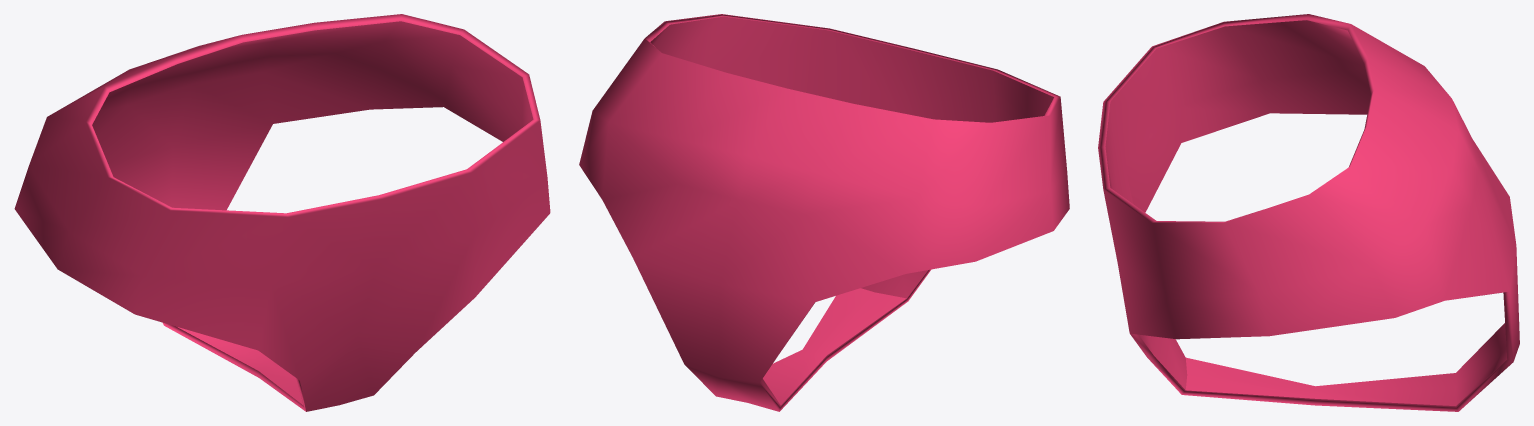
Rendered from WomenV1bikini_B.fbx.
3 renders of one model, left to right at view 1: azimuth 30°, elevation 25°; view 2: azimuth 150°, elevation 25°; view 3: azimuth 270°, elevation 25°, orthographic. The views are drawn at different scales.
Parts seen in each view (by area): view 1: _F_Bikini_B; view 2: _F_Bikini_B; view 3: _F_Bikini_B.
Boxes of the visible parts, x1,y1,x2,y2 form: _F_Bikini_B: (14, 14, 550, 411); _F_Bikini_B: (579, 14, 1069, 411); _F_Bikini_B: (1098, 14, 1519, 411).
Bounding box in the file's own units: 35.64 × 22.75 × 28.
